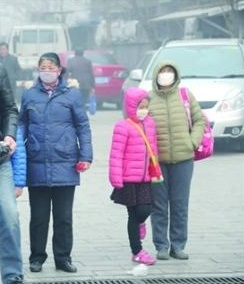person: (19, 49, 85, 275), (148, 58, 212, 262), (107, 86, 163, 267), (1, 72, 28, 283), (64, 46, 95, 96), (1, 42, 20, 70)
